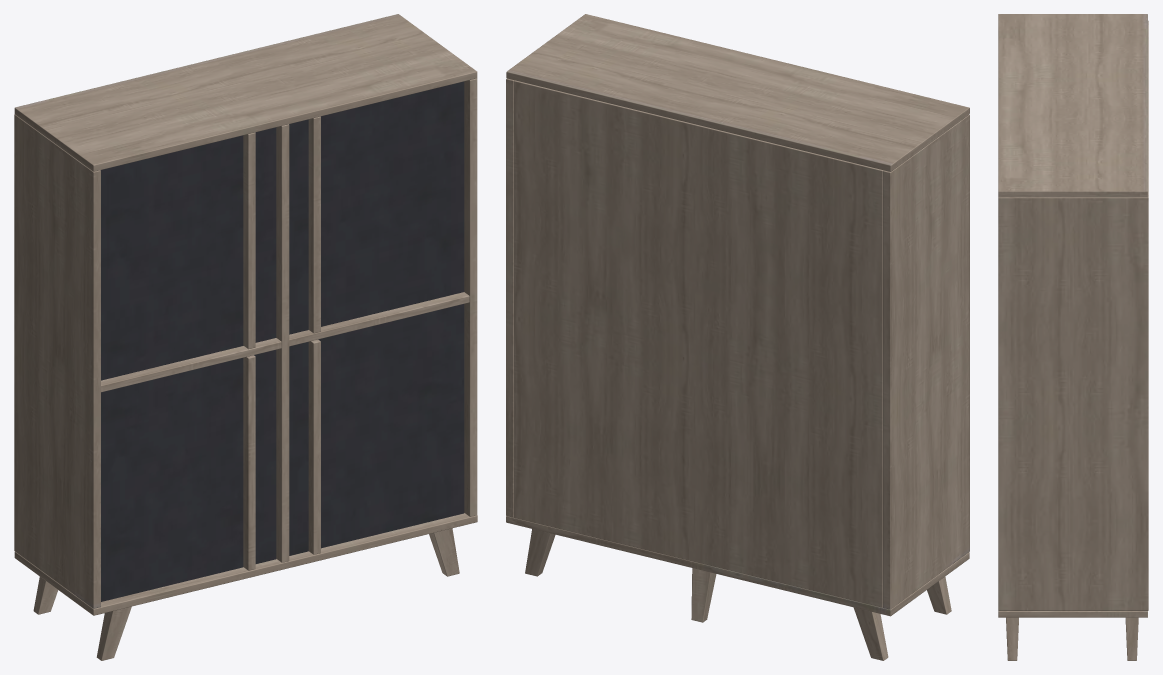
The model's file is abo-B07H469871.glb.
The picture shows the model from 3 angles, left to right: view 1: azimuth 30°, elevation 25°; view 2: azimuth 150°, elevation 25°; view 3: azimuth 270°, elevation 25°; orthographic projection. The views are drawn at different scales.
Bounding box in the file's own units: 1.11 × 1.39 × 0.398.
1 material, 1 textured.
